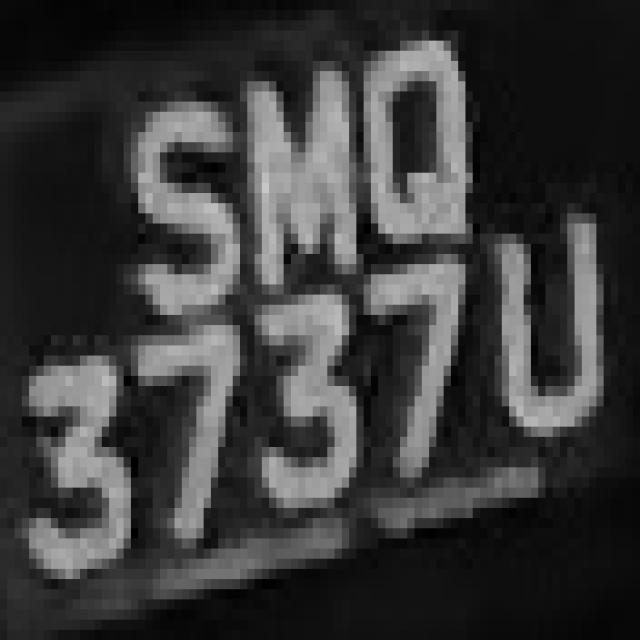3: (247, 264, 393, 528), (7, 325, 131, 610)
7: (116, 254, 240, 589), (364, 254, 480, 528)
M: (232, 61, 364, 305)
Q: (342, 31, 494, 274)
S: (109, 51, 247, 325)
U: (488, 203, 626, 488)
